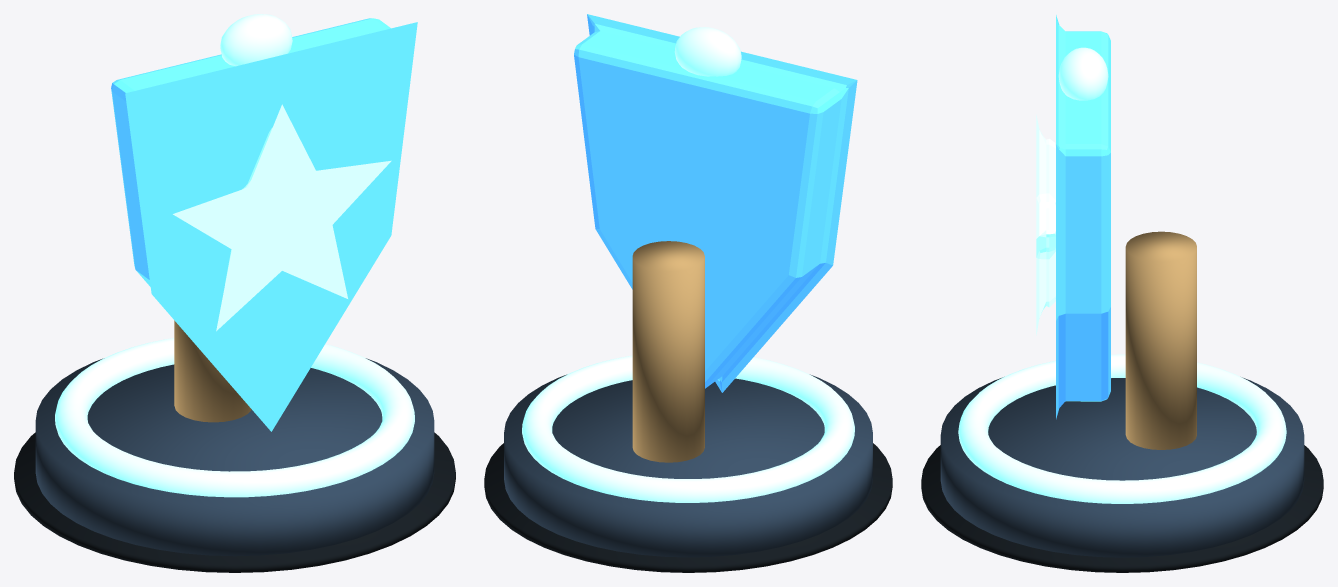
File: shield.glb
3 views of the same model, side by side, from view 1: azimuth 30°, elevation 25°; view 2: azimuth 150°, elevation 25°; view 3: azimuth 270°, elevation 25° (orthographic). The views are drawn at different scales.
Parts seen in each view (by area): view 1: Shield_Body, Shield_Base, Shield_Star_Glow, Shield_Base_Glow, Shield_Shadow, Shield_Stand, Shield_Top_Gem; view 2: Shield_Body, Shield_Base, Shield_Base_Glow, Shield_Stand, Shield_Shadow, Shield_Top_Gem; view 3: Shield_Base, Shield_Body, Shield_Stand, Shield_Base_Glow, Shield_Shadow, Shield_Star_Glow, Shield_Top_Gem.
Part boxes in pixels (<box>): Shield_Body: <box>111,18,417,431</box>; Shield_Base: <box>35,358,434,556</box>; Shield_Star_Glow: <box>173,104,391,331</box>; Shield_Base_Glow: <box>55,338,414,497</box>; Shield_Shadow: <box>14,432,455,572</box>; Shield_Stand: <box>174,320,251,422</box>; Shield_Top_Gem: <box>220,14,292,66</box>; Shield_Body: <box>574,14,857,392</box>; Shield_Base: <box>504,374,872,557</box>; Shield_Base_Glow: <box>522,355,854,502</box>; Shield_Stand: <box>632,241,704,462</box>; Shield_Shadow: <box>484,443,892,572</box>; Shield_Top_Gem: <box>674,27,741,76</box>; Shield_Base: <box>940,377,1304,557</box>; Shield_Body: <box>1056,15,1110,419</box>; Shield_Stand: <box>1125,231,1196,449</box>; Shield_Base_Glow: <box>958,354,1286,503</box>; Shield_Shadow: <box>921,445,1323,572</box>; Shield_Star_Glow: <box>1036,114,1055,335</box>; Shield_Top_Gem: <box>1058,47,1108,100</box>.
Size of the model in its own units: 0.62 by 0.7412 by 0.62.
